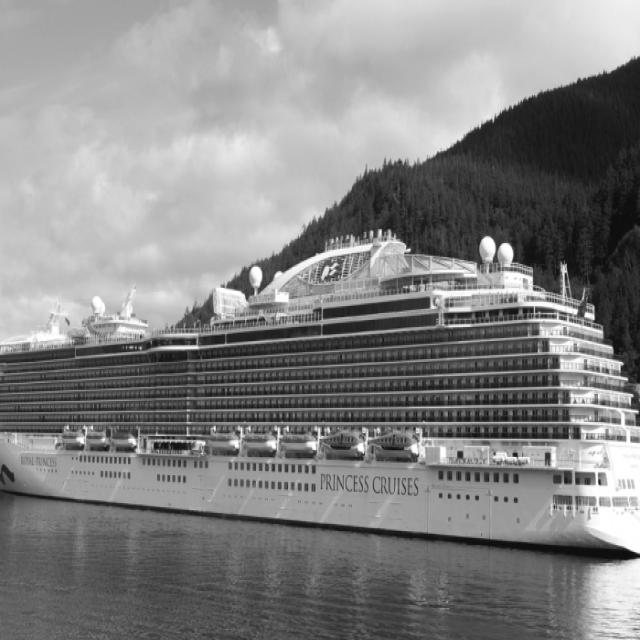cruises: (1, 227, 640, 567)
